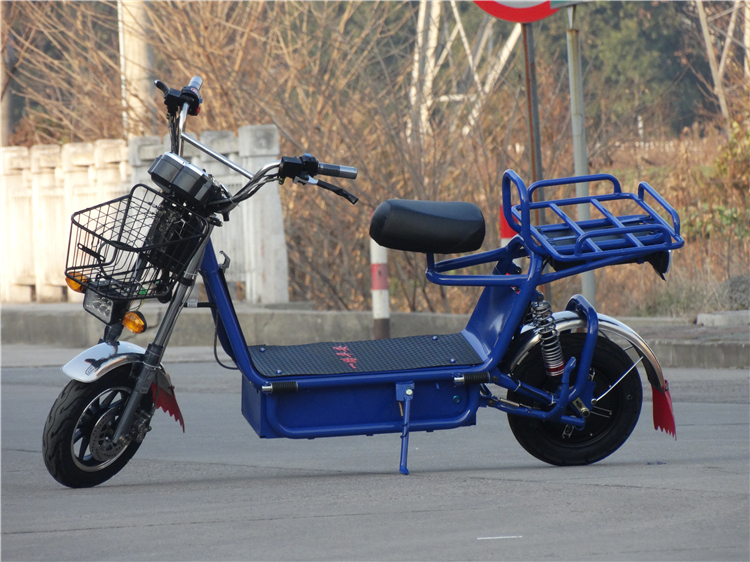电动车: (34, 75, 700, 500)
